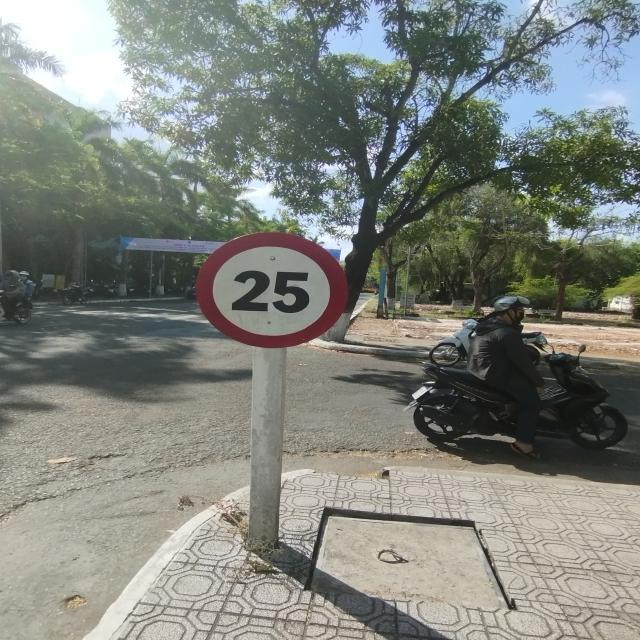Tre_Em: (195, 230, 350, 350)
